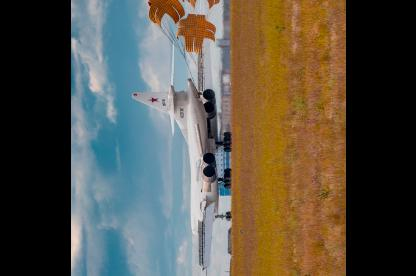Su34: (130, 0, 231, 275)
